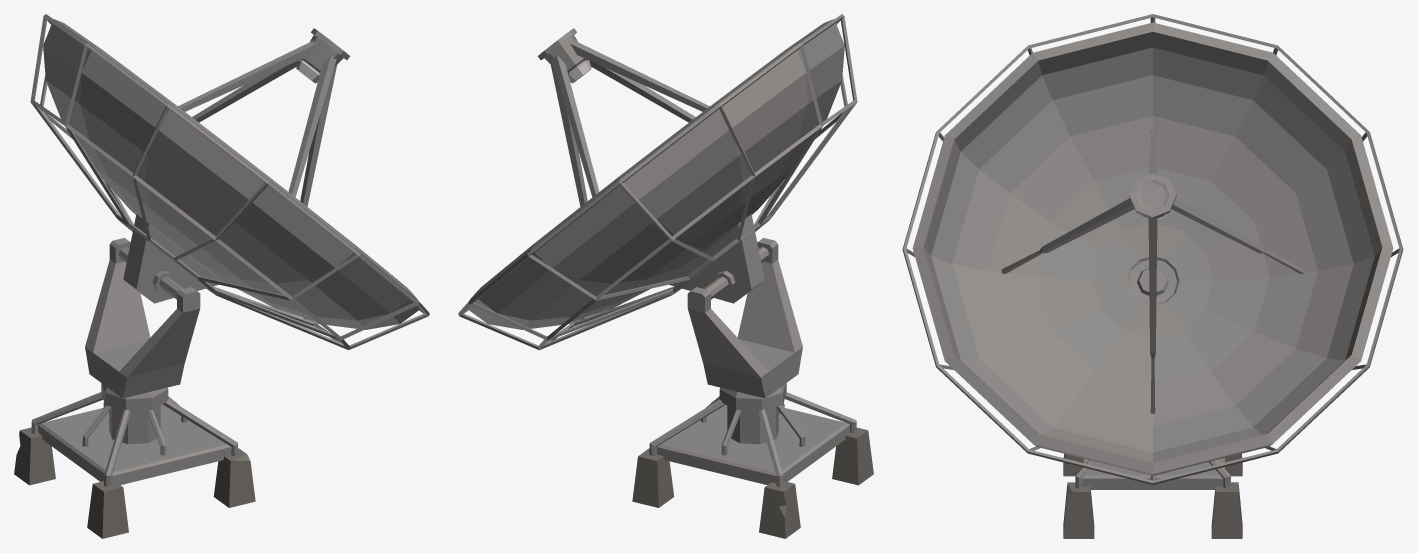
The model's file is SM_Props_Desert_SatelliteAntenna.fbx.
The picture shows the model from 3 angles, left to right: view 1: azimuth 30°, elevation 25°; view 2: azimuth 150°, elevation 25°; view 3: azimuth 270°, elevation 25°; orthographic projection.
Parts seen in each view (by area): view 1: SM_Props_Desert_SatelliteAntenna_Dish, SM_Props_Desert_SatelliteAntenna, SM_Props_Desert_SatelliteAntenna_Part; view 2: SM_Props_Desert_SatelliteAntenna_Dish, SM_Props_Desert_SatelliteAntenna, SM_Props_Desert_SatelliteAntenna_Part; view 3: SM_Props_Desert_SatelliteAntenna_Dish, SM_Props_Desert_SatelliteAntenna.
Part boxes in pixels (box(x1,y1,x2,y2)): SM_Props_Desert_SatelliteAntenna_Dish: box(30, 14, 429, 350); SM_Props_Desert_SatelliteAntenna: box(14, 383, 255, 538); SM_Props_Desert_SatelliteAntenna_Part: box(85, 238, 200, 398); SM_Props_Desert_SatelliteAntenna_Dish: box(458, 14, 857, 350); SM_Props_Desert_SatelliteAntenna: box(632, 383, 873, 538); SM_Props_Desert_SatelliteAntenna_Part: box(687, 238, 802, 398); SM_Props_Desert_SatelliteAntenna_Dish: box(902, 14, 1403, 484); SM_Props_Desert_SatelliteAntenna: box(1063, 453, 1242, 538).
Size of the model in its own units: 5.74 by 7.58 by 7.43.
